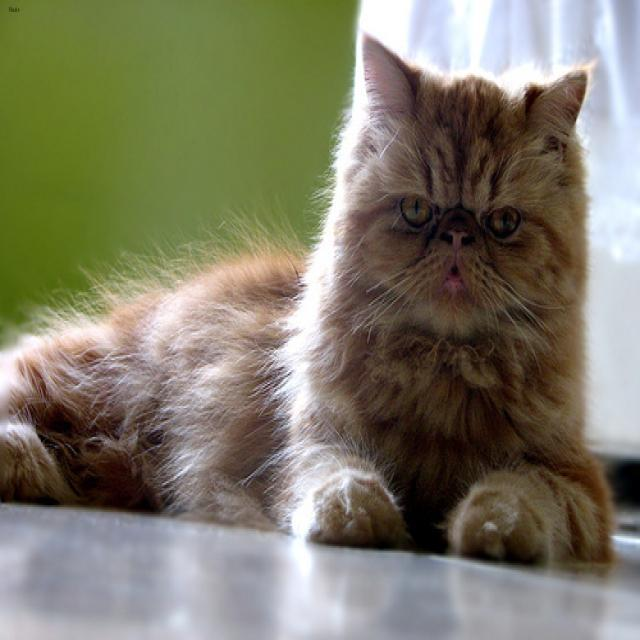Persian: (330, 26, 596, 346)
